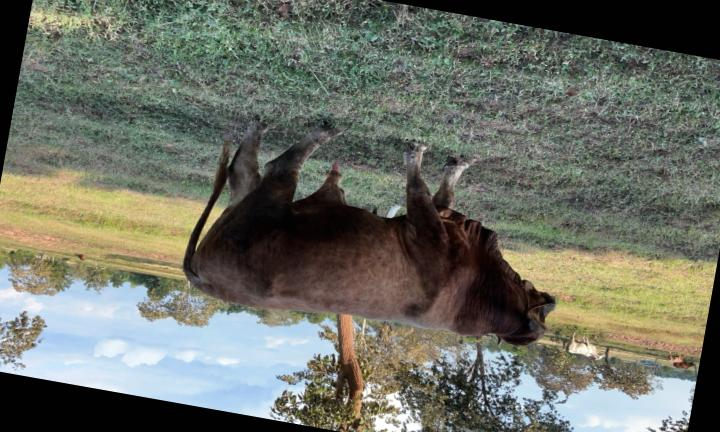Charolais: (183, 121, 556, 346)
